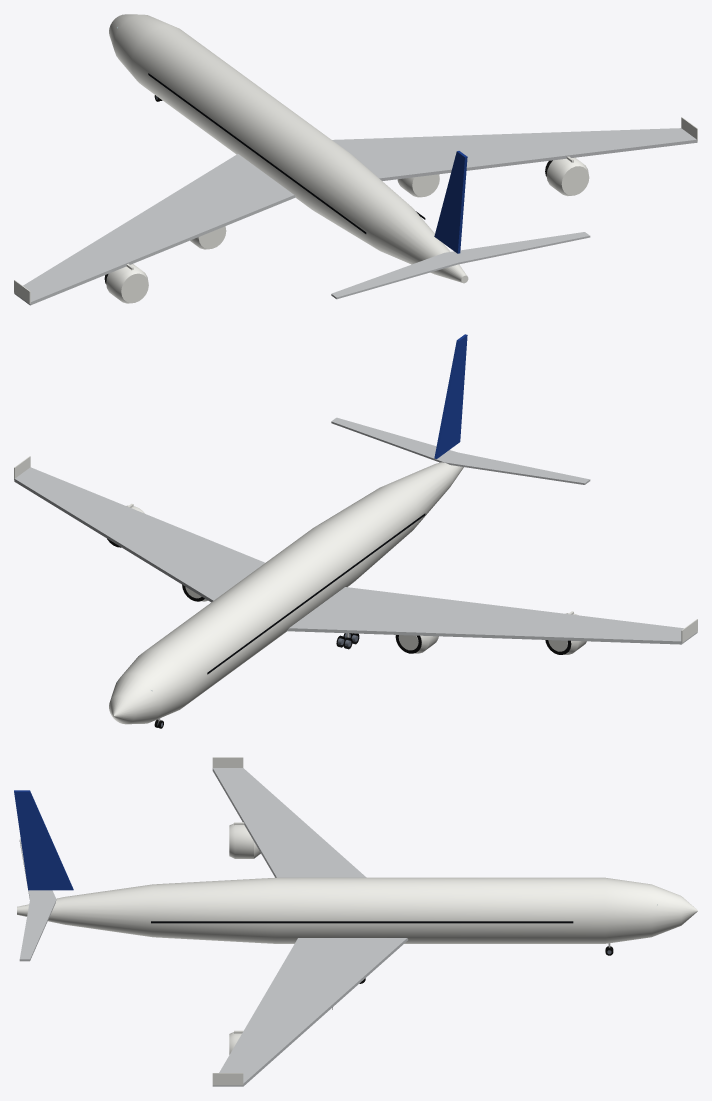
Rendered from airport.aircraft.jumbo.glb.
3 views of the same model, one above another, from view 1: azimuth 30°, elevation 25°; view 2: azimuth 150°, elevation 25°; view 3: azimuth 270°, elevation 25° (orthographic). The views are drawn at different scales.
Visible parts, largest first — view 1: wings__aluminium, fuselage__paint_white, engines__paint_white, wings__plastic_blue, fuselage__screen; view 2: wings__aluminium, fuselage__paint_white, wings__plastic_blue, engines__paint_white, fuselage__screen; view 3: fuselage__paint_white, wings__aluminium, wings__plastic_blue, fuselage__screen, engines__paint_white, wings__paint_white.
Part boxes in pixels (x1,y1,x2,y2): wings__aluminium: (14,128,697,305); fuselage__paint_white: (109,14,468,283); engines__paint_white: (106,156,589,303); wings__plastic_blue: (434,151,467,253); fuselage__screen: (148,73,425,233); wings__aluminium: (14,417,697,644); fuselage__paint_white: (109,462,463,724); wings__plastic_blue: (434,334,467,458); engines__paint_white: (126,503,586,654); fuselage__screen: (207,513,425,674); fuselage__paint_white: (17,877,697,943); wings__aluminium: (19,768,408,1086); wings__plastic_blue: (14,790,73,890); fuselage__screen: (151,921,573,923); engines__paint_white: (229,822,260,1054); wings__paint_white: (212,757,243,1085).
Bounding box in the file's own units: 79.1 × 19.89 × 72.3.
